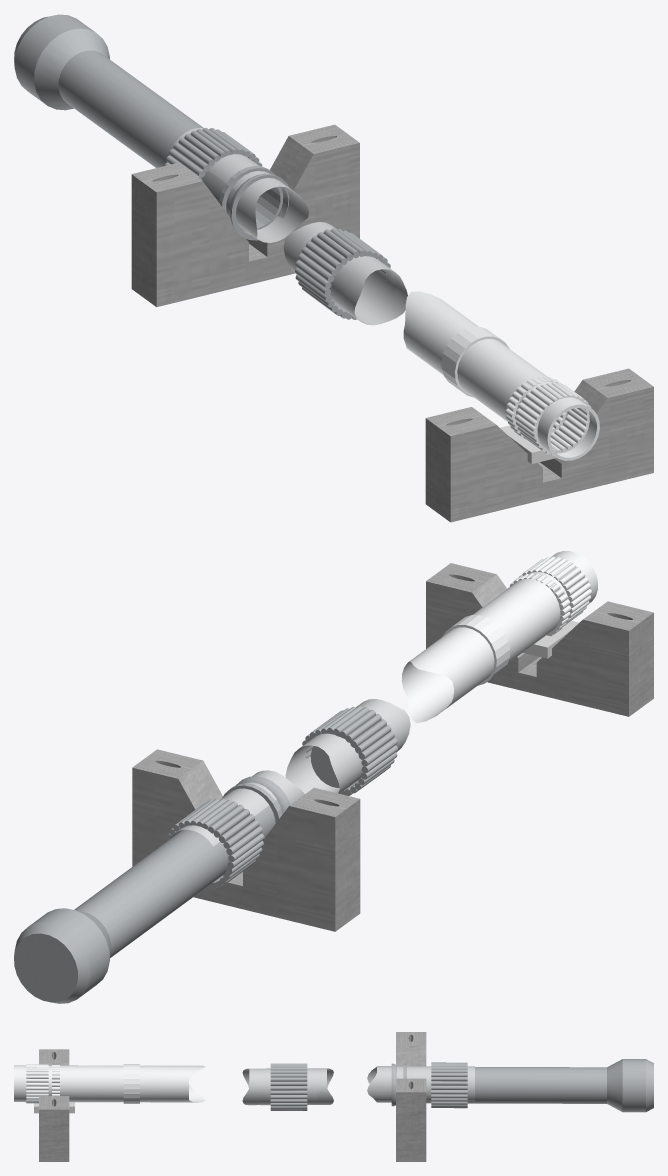
3 views of the same model, one above another, from view 1: azimuth 30°, elevation 25°; view 2: azimuth 150°, elevation 25°; view 3: azimuth 270°, elevation 25° (orthographic). The views are drawn at different scales.
Visible parts, largest first — view 1: v block, 1, v block.001, 7, 6.002; view 2: 1, v block, v block.001, 7, 6.002, Cube; view 3: 1, 7, v block, 6.002, v block.001.
Part boxes in pixels (bbox=[...]): v block: bbox=[131, 124, 359, 307]; 1: bbox=[14, 14, 309, 242]; v block.001: bbox=[425, 368, 653, 522]; 7: bbox=[403, 291, 599, 460]; 6.002: bbox=[283, 222, 407, 325]; 1: bbox=[14, 770, 304, 1003]; v block: bbox=[132, 749, 360, 931]; v block.001: bbox=[426, 563, 653, 716]; 7: bbox=[401, 551, 597, 722]; 6.002: bbox=[285, 699, 410, 795]; Cube: bbox=[523, 620, 578, 658]; 1: bbox=[367, 1059, 653, 1112]; 7: bbox=[14, 1064, 205, 1103]; v block: bbox=[396, 1032, 426, 1161]; 6.002: bbox=[242, 1063, 333, 1110]; v block.001: bbox=[39, 1049, 69, 1161].
Bounding box in the file's own units: 94.76 × 51.64 × 426.
4 materials, 2 textured.
